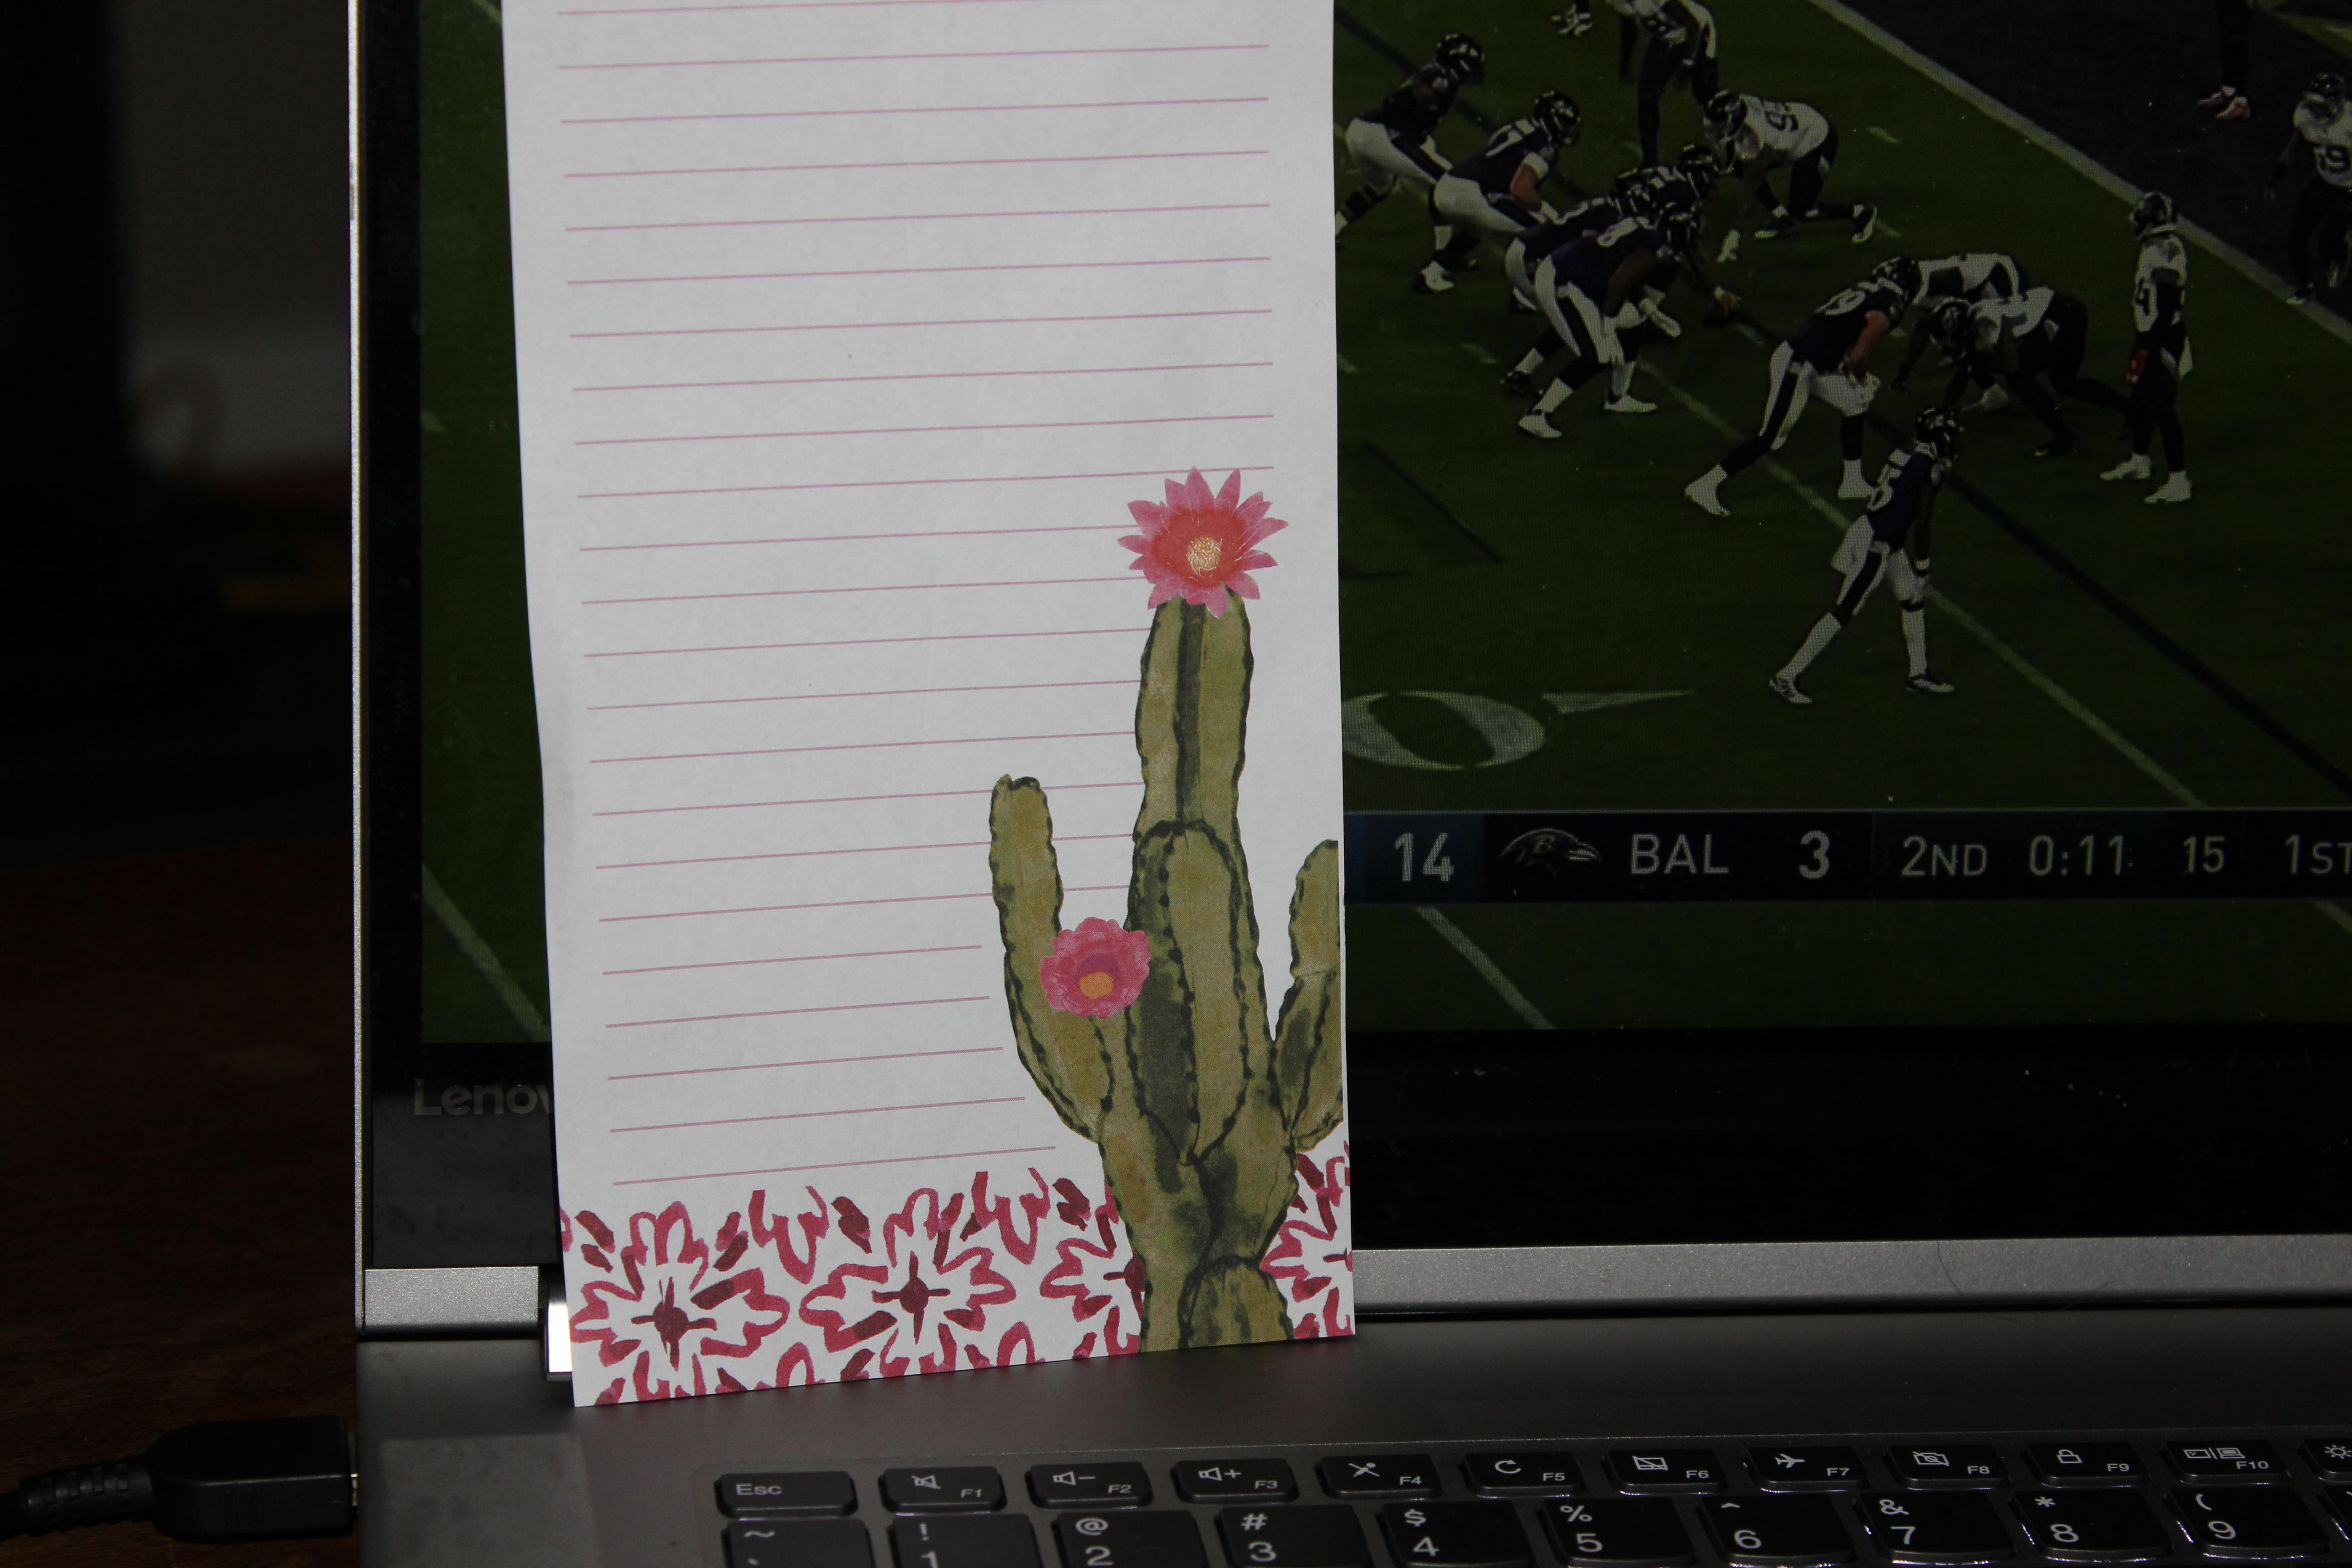cactusPaper: (465, 0, 1421, 1423)
